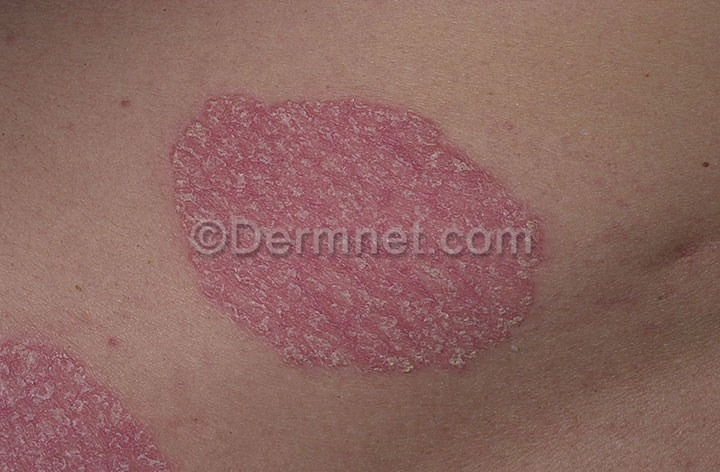Psoriasis: (158, 81, 559, 378), (0, 327, 186, 472)
